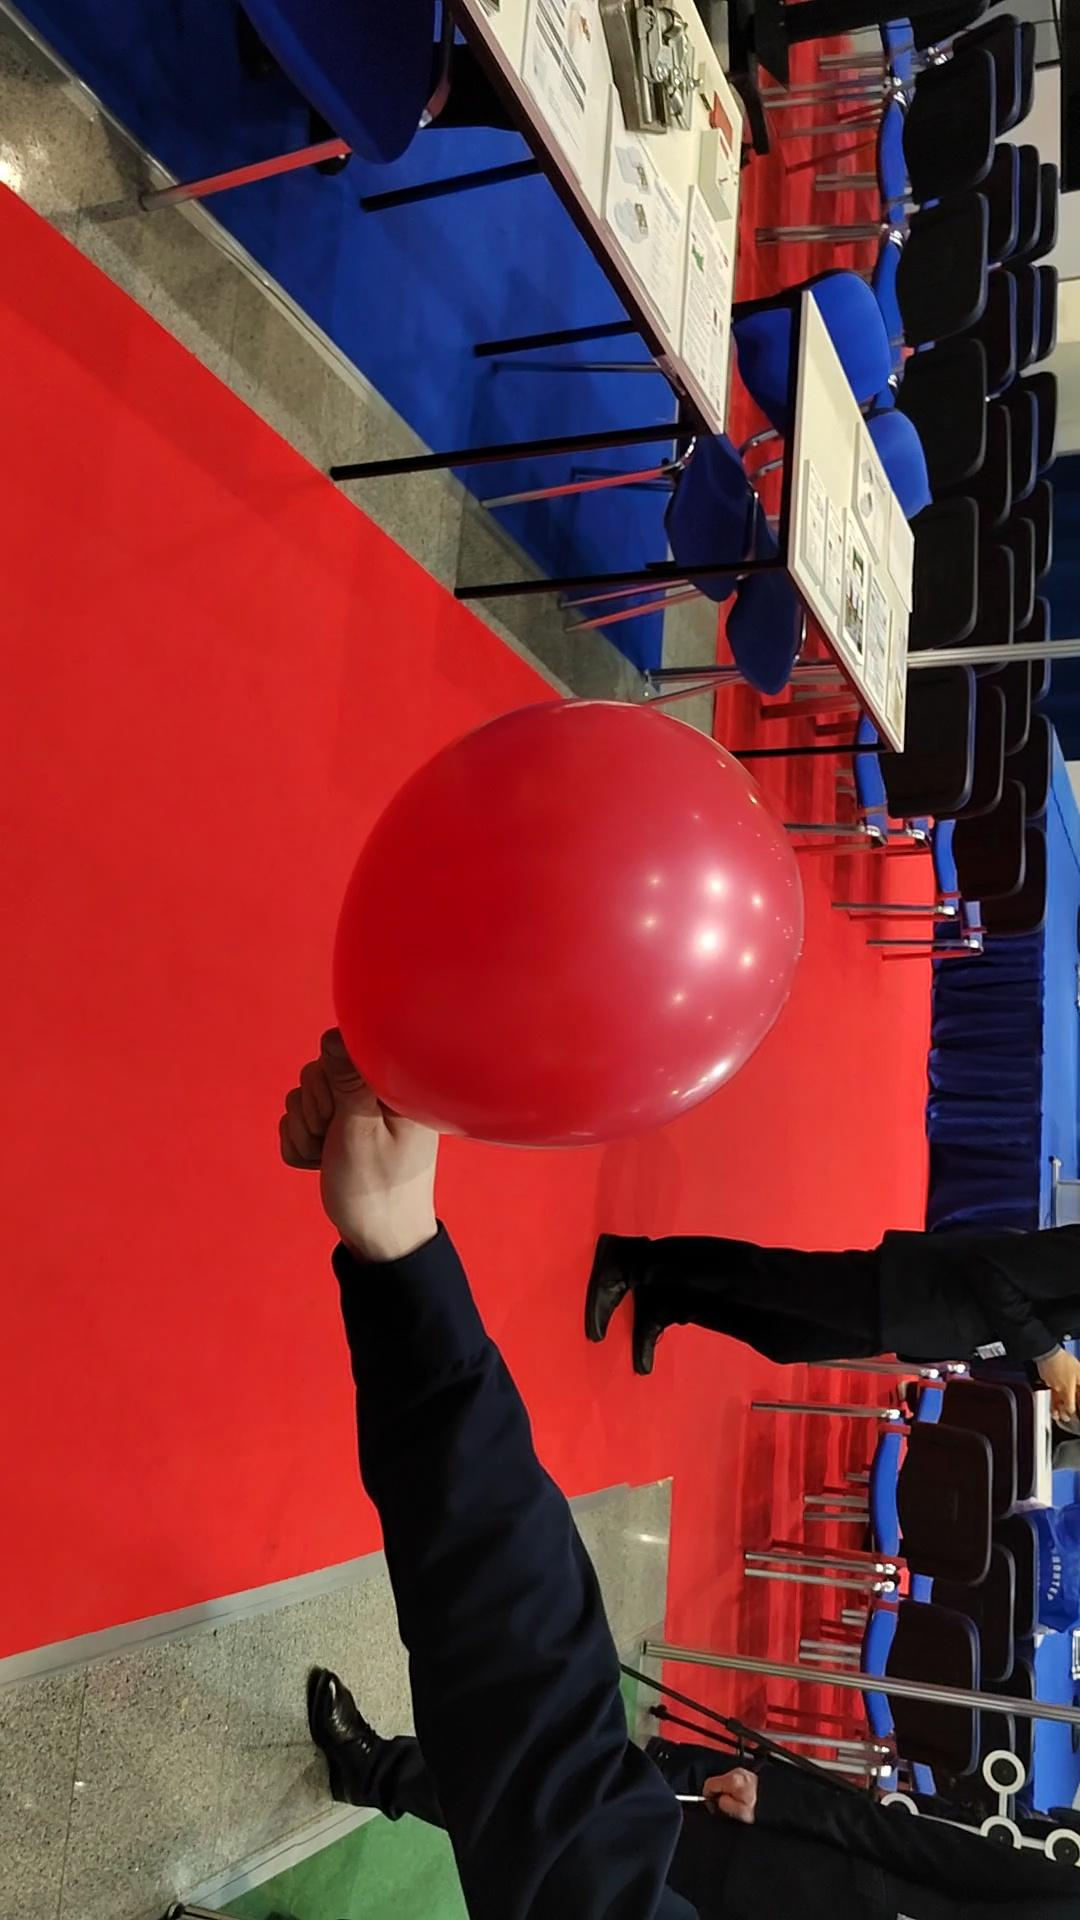red: (323, 694, 793, 1158)
